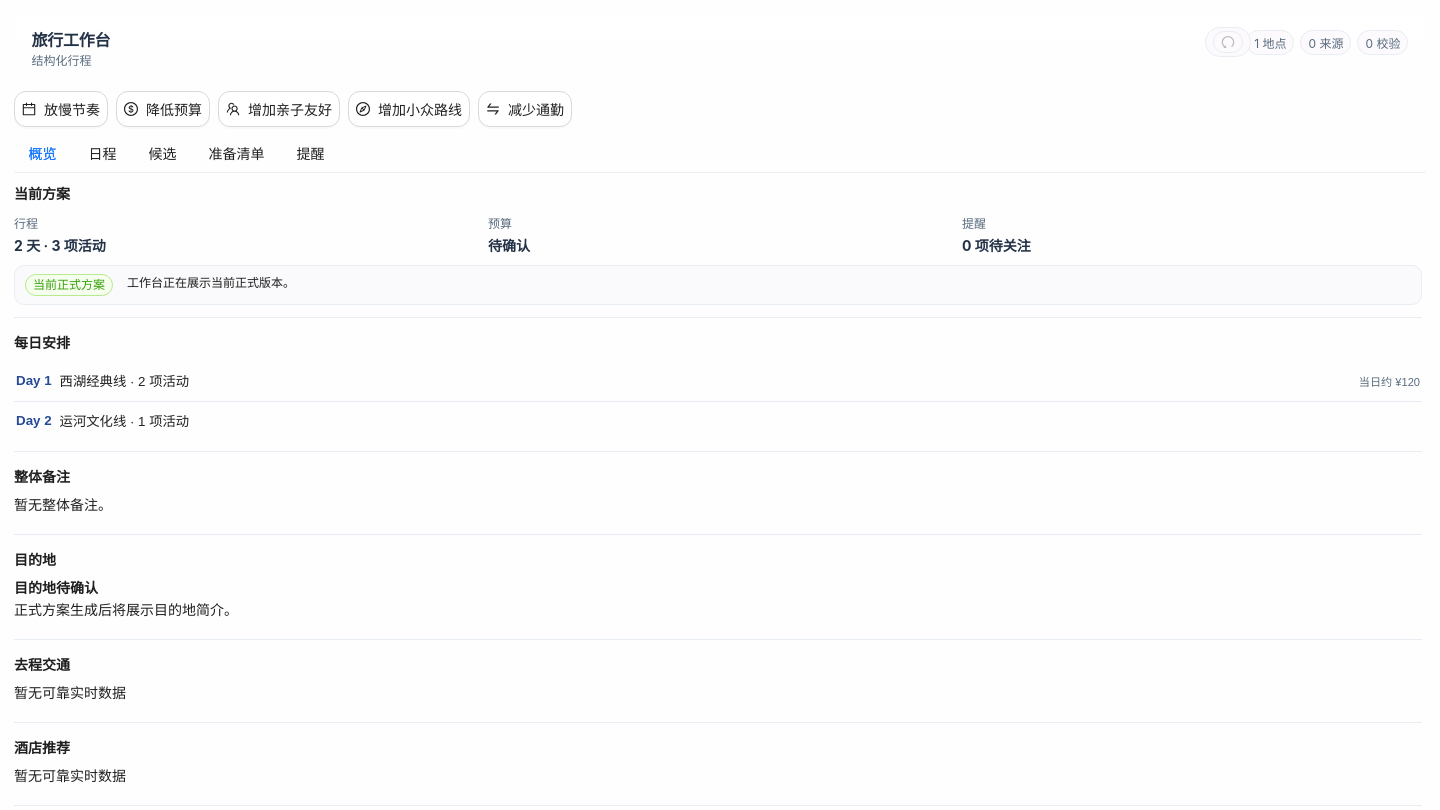
Test case: TripWorkspace › shows route details between adjacent activities
Click the tab "日程" at point(102, 154), box [88,143,116,165]
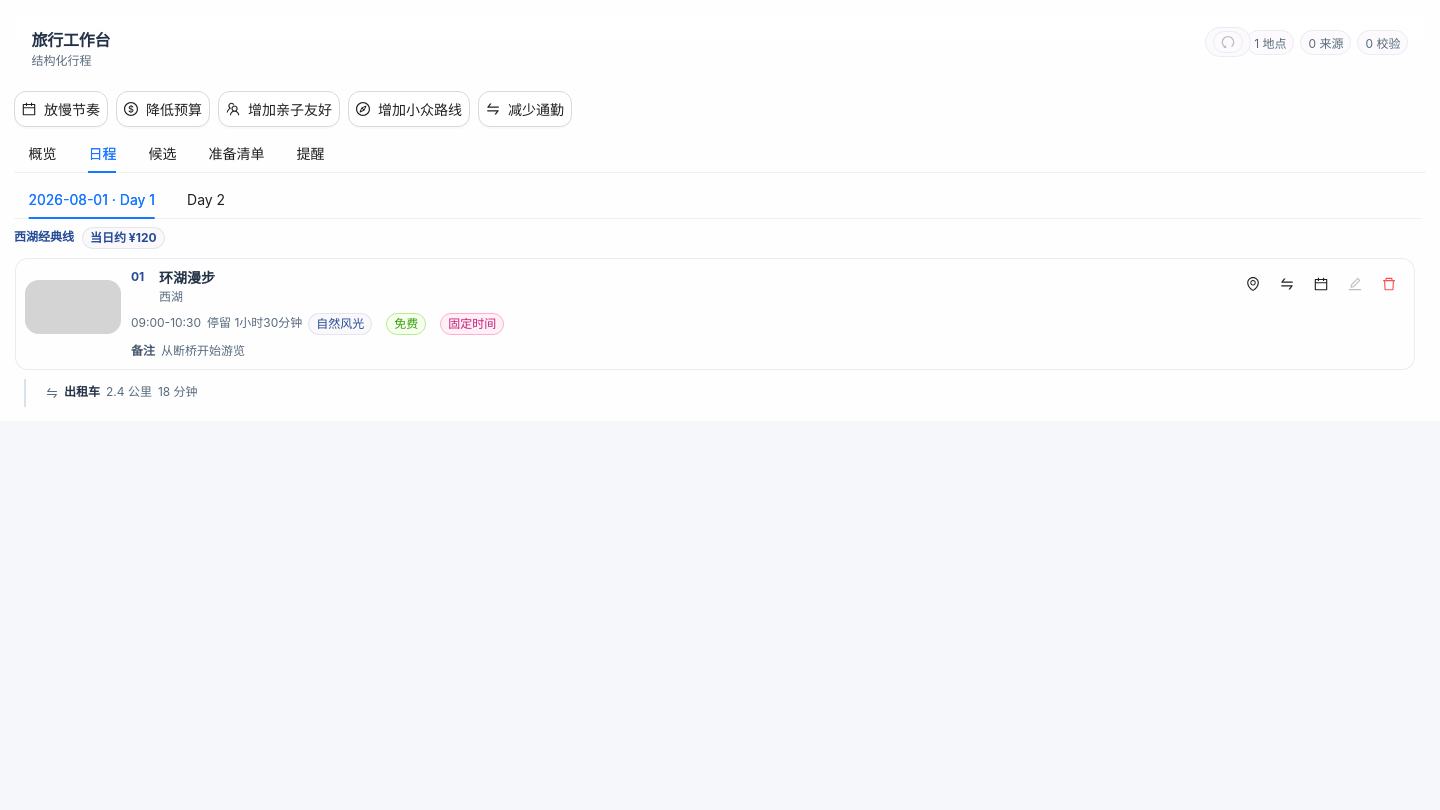
Check: the element named "前往下一站：出租车" shows "出租车", box [64,384,100,399]
Check: the element named "前往下一站：出租车" shows "2.4 公里", box [106,384,152,399]
Check: the element named "前往下一站：出租车" shows "18 分钟", box [24,379,1416,407]
